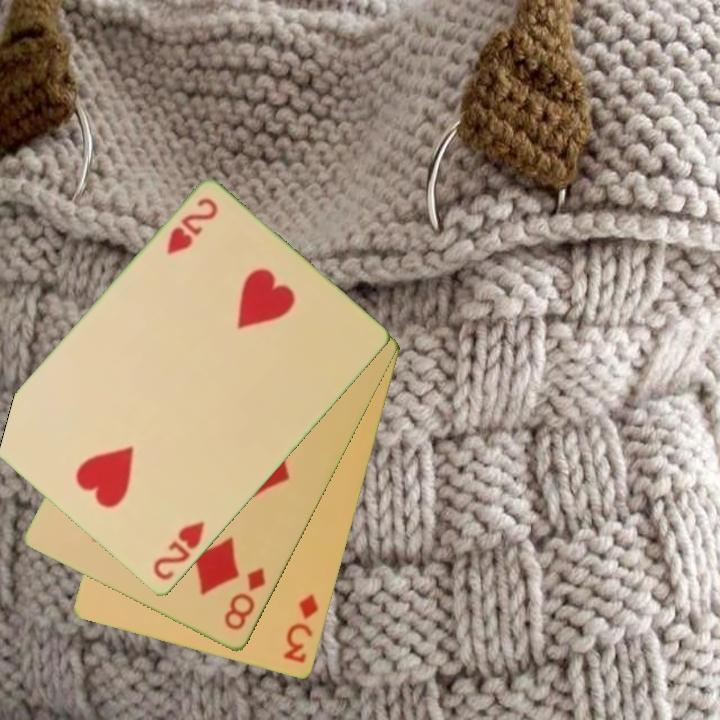2h: (149, 518, 208, 584), (163, 195, 221, 258)
3d: (280, 591, 322, 667)
8d: (221, 564, 269, 634)
